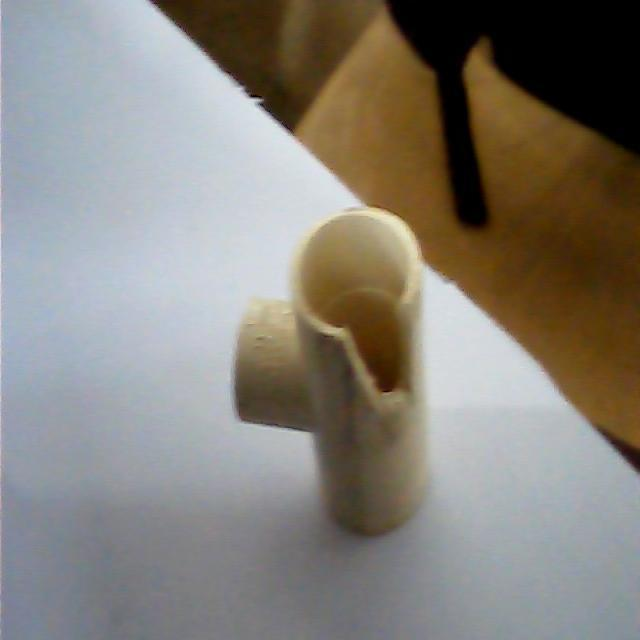Defective: (345, 295, 418, 413)
T Joint: (234, 207, 432, 525)
